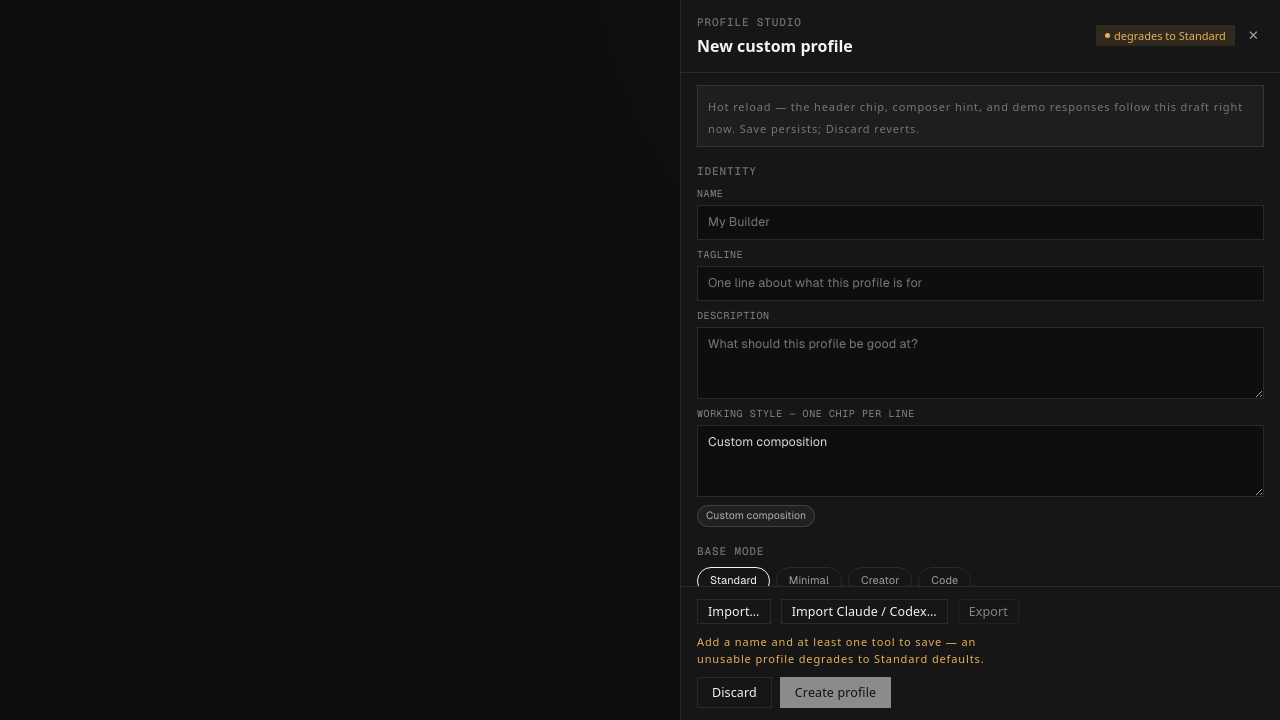
Test: Profile Studio import › imports a valid file through the native open dialog, persists, and selects it
The image size is (1280, 720).
expect the element with test id "profile-studio" is shown: met, box left=680, top=0, right=1279, bottom=719
Click the button with test id "studio-import" at {"x": 734, "y": 612}, box left=697, top=599, right=771, bottom=624
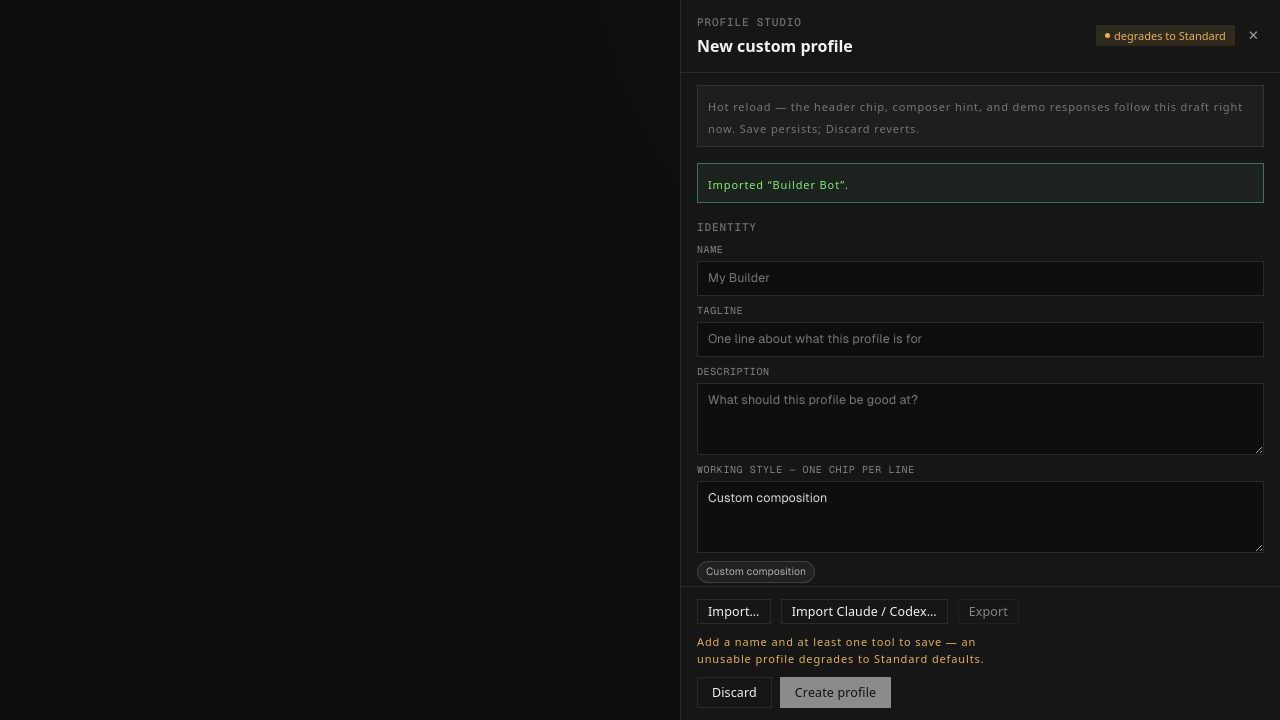
expect the message with test id "studio-port-notice" reads "Imported “Builder Bot”.": met, box left=708, top=176, right=849, bottom=192
